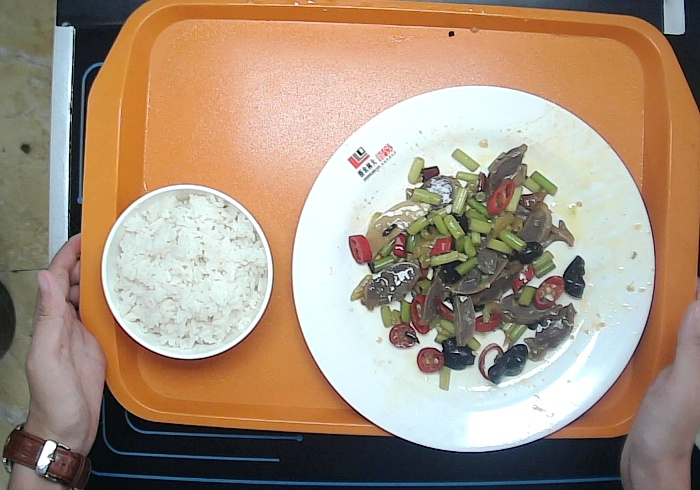ZNLD-Da_Yuan_Pan: (284, 86, 660, 461)
ZNLD-Fan_Wan: (98, 182, 275, 365)
